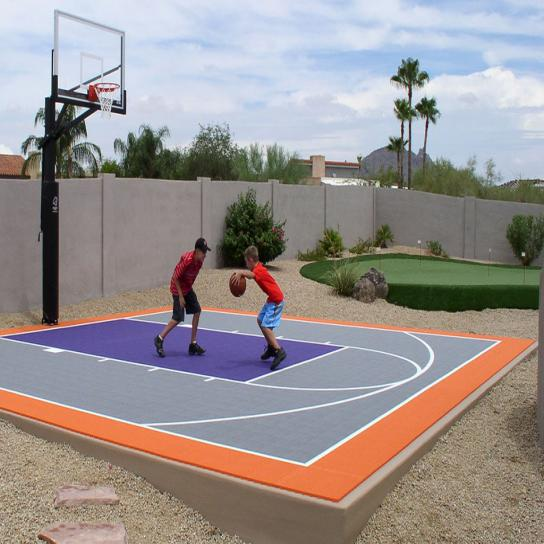basketball-hoop: (94, 81, 120, 117)
